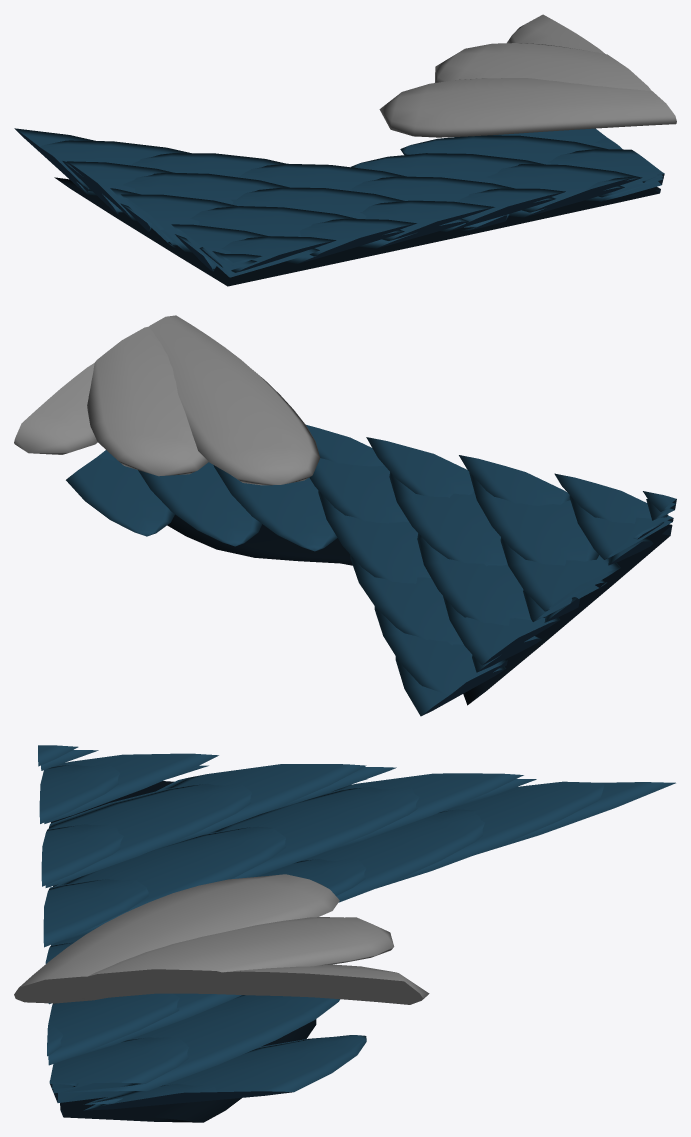
File: gryphon_43.glb
3 renders of one model, top to bottom at view 1: azimuth 30°, elevation 25°; view 2: azimuth 150°, elevation 25°; view 3: azimuth 270°, elevation 25°, orthographic. The views are drawn at different scales.
Visible parts, largest first — view 1: gryphon_43; view 2: gryphon_43; view 3: gryphon_43.
Part boxes in pixels (x1,y1,x2,y2): gryphon_43: (14, 14, 676, 286); gryphon_43: (14, 315, 676, 716); gryphon_43: (14, 745, 675, 1122).
Size of the model in its own units: 24 by 5.57 by 21.73.
